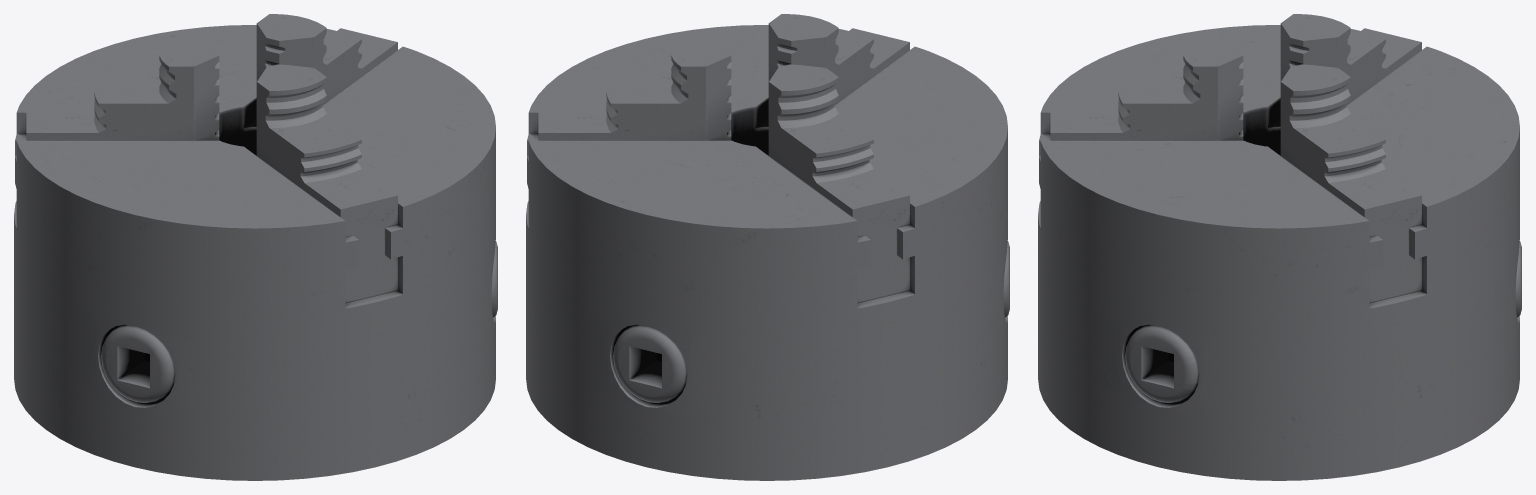
The model's file is lathe_chuck.glb.
3 views of the same model, side by side, from view 1: azimuth 30°, elevation 25°; view 2: azimuth 150°, elevation 25°; view 3: azimuth 270°, elevation 25° (orthographic).
Visible parts, largest first — view 1: Cylinder.002_Cylinder.003, Cube.005_Cube.006; view 2: Cylinder.002_Cylinder.003, Cube.005_Cube.006; view 3: Cylinder.002_Cylinder.003, Cube.005_Cube.006.
Part boxes in pixels (x1,y1,x2,y2): Cylinder.002_Cylinder.003: [14, 25, 497, 480]; Cube.005_Cube.006: [26, 14, 397, 302]; Cylinder.002_Cylinder.003: [526, 25, 1009, 480]; Cube.005_Cube.006: [538, 14, 909, 302]; Cylinder.002_Cylinder.003: [1038, 25, 1521, 480]; Cube.005_Cube.006: [1050, 14, 1421, 302].
Bounding box in the file's own units: 8 × 5.98 × 8.03.
Materials: 1 (1 with a texture image).
